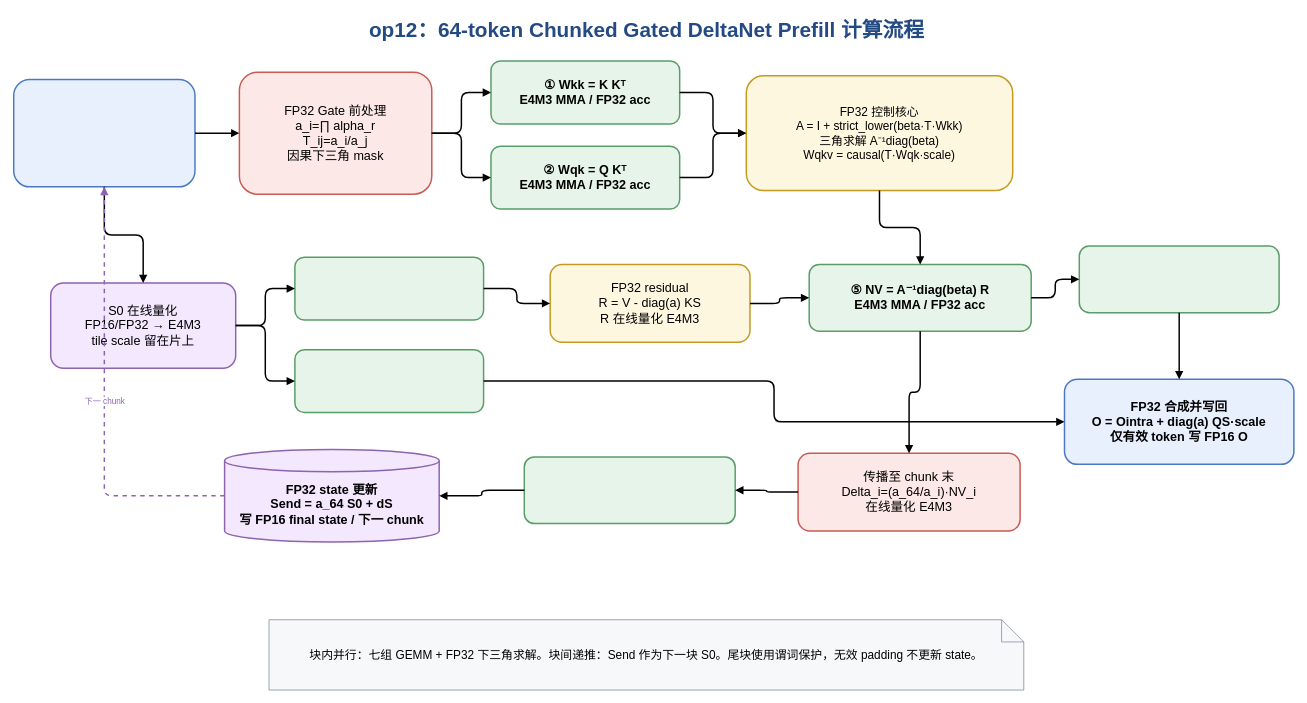
This 1307x703 diagram has some shape labels left out. Here are the shapes that lost their labels. From the top down, the centre of each, then its label:
At (104,132): "输入 Q/K/V：E4M3 [64,128] gate/beta：FP32 S0：FP16 [128,128]".
At (389,288): "③ KS = K S0 E4M3 MMA / FP32 acc".
At (1178,279): "⑥ Ointra = Wqkv NV E4M3 MMA / FP32 acc".
At (389,381): "④ QS = Q S0 E4M3 MMA / FP32 acc".
At (629,490): "⑦ dS = Kᵀ Delta E4M3 MMA / FP32 acc".
